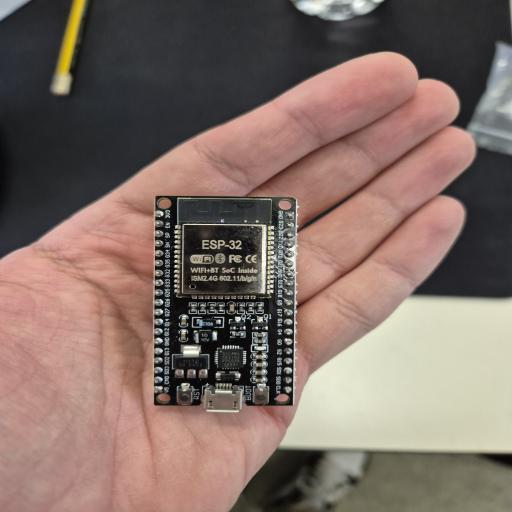esp32-dev: (151, 194, 297, 411)
